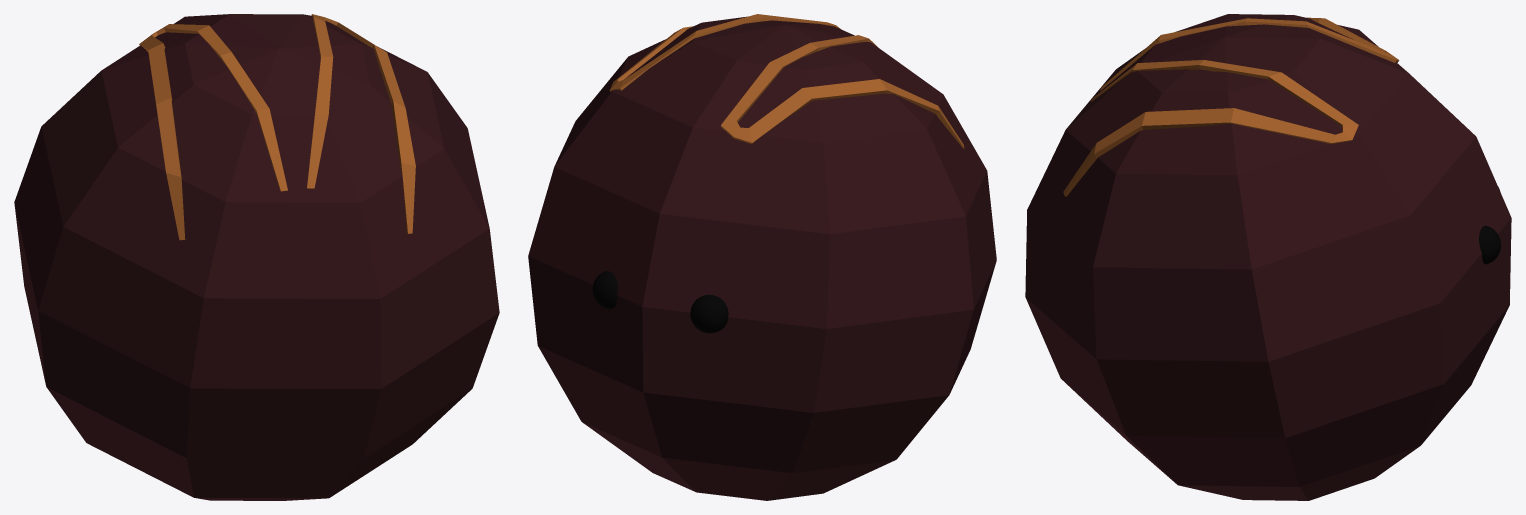
The model's file is BonBonRolling.fbx.
The picture shows the model from 3 angles, left to right: view 1: azimuth 30°, elevation 25°; view 2: azimuth 150°, elevation 25°; view 3: azimuth 270°, elevation 25°; orthographic projection. The views are drawn at different scales.
Parts seen in each view (by area): view 1: truffleChocolate; view 2: truffleChocolate; view 3: truffleChocolate.
Boxes of the visible parts, box(x1,y1,x2,y2) form: truffleChocolate: box(14, 14, 499, 500); truffleChocolate: box(528, 14, 996, 500); truffleChocolate: box(1025, 14, 1511, 500).
Bounding box in the file's own units: 200 × 197 × 197.
